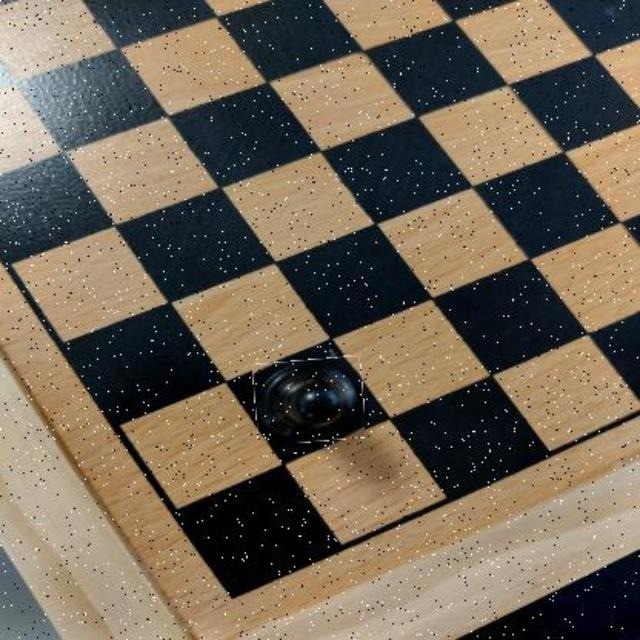black-pawn: (255, 359, 365, 443)
